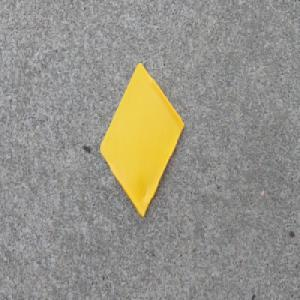PlasticPart: (98, 62, 184, 220)
